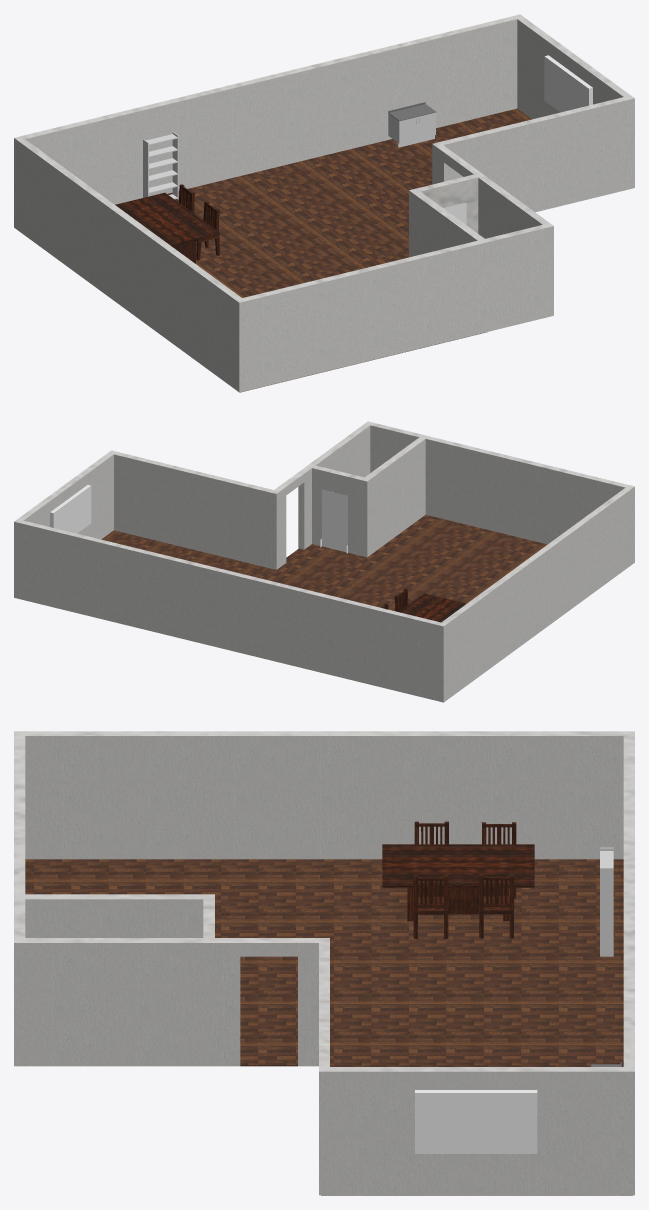
The model's file is casa.fbx.
3 views of the same model, one above another, from view 1: azimuth 30°, elevation 25°; view 2: azimuth 150°, elevation 25°; view 3: azimuth 270°, elevation 25° (orthographic). The views are drawn at different scales.
Parts seen in each view (by area): view 1: Pared1, PisoPB, Mesa, CTRL_Hole.001, Estante, Silla.004; view 2: Pared1, PisoPB, CTRL_Hole, CTRL_Hole.001, Mesa; view 3: Pared1, PisoPB, CTRL_Hole.001, Mesa, Estante, Silla.004, Silla.003, Silla.001.
Boxes of the visible parts, x1=… form: Pared1: x1=14, y1=14, x2=634, y2=392; PisoPB: x1=167, y1=108, x2=531, y2=392; Mesa: x1=115, y1=192, x2=220, y2=263; CTRL_Hole.001: x1=544, y1=55, x2=592, y2=112; Estante: x1=143, y1=132, x2=178, y2=199; Silla.004: x1=196, y1=201, x2=219, y2=260; Pared1: x1=14, y1=421, x2=634, y2=702; PisoPB: x1=101, y1=515, x2=547, y2=610; CTRL_Hole: x1=322, y1=489, x2=347, y2=552; CTRL_Hole.001: x1=50, y1=485, x2=91, y2=533; Mesa: x1=399, y1=593, x2=466, y2=622; Pared1: x1=14, y1=731, x2=634, y2=1195; PisoPB: x1=25, y1=859, x2=632, y2=1195; CTRL_Hole.001: x1=415, y1=1090, x2=537, y2=1153; Mesa: x1=382, y1=844, x2=534, y2=921; Estante: x1=600, y1=847, x2=613, y2=956; Silla.004: x1=413, y1=875, x2=448, y2=938; Silla.003: x1=479, y1=874, x2=514, y2=938; Silla.001: x1=481, y1=822, x2=516, y2=898.
Size of what is drawn, in the model's own units: 1660 by 289 by 1269.
